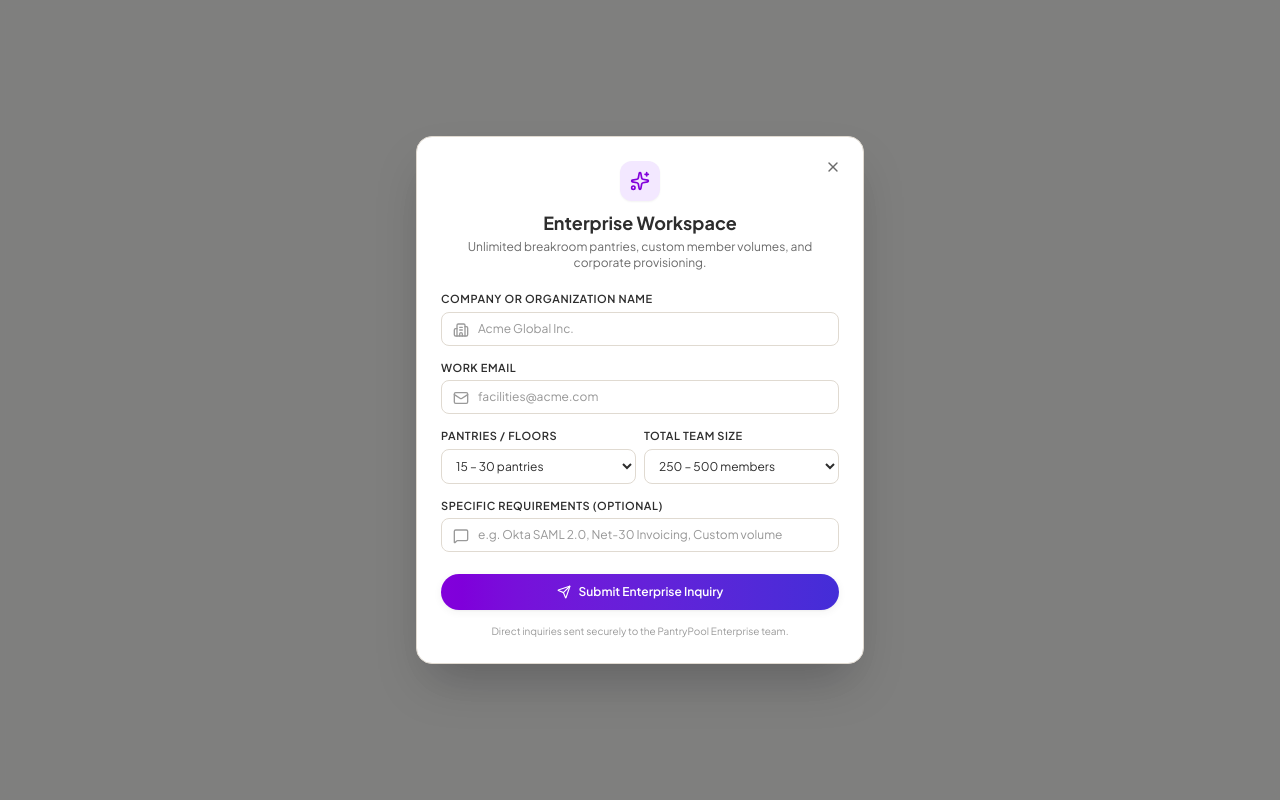
Test: EnterpriseInquiryModal Component › submits inquiry internally via API and does NOT open mailto client popup
This screenshot has width=1280, height=800.
// Fill form
Type "Stark Industries" into the field with placeholder "Acme Global Inc." at (640, 328), box 441,312 -> 839,346
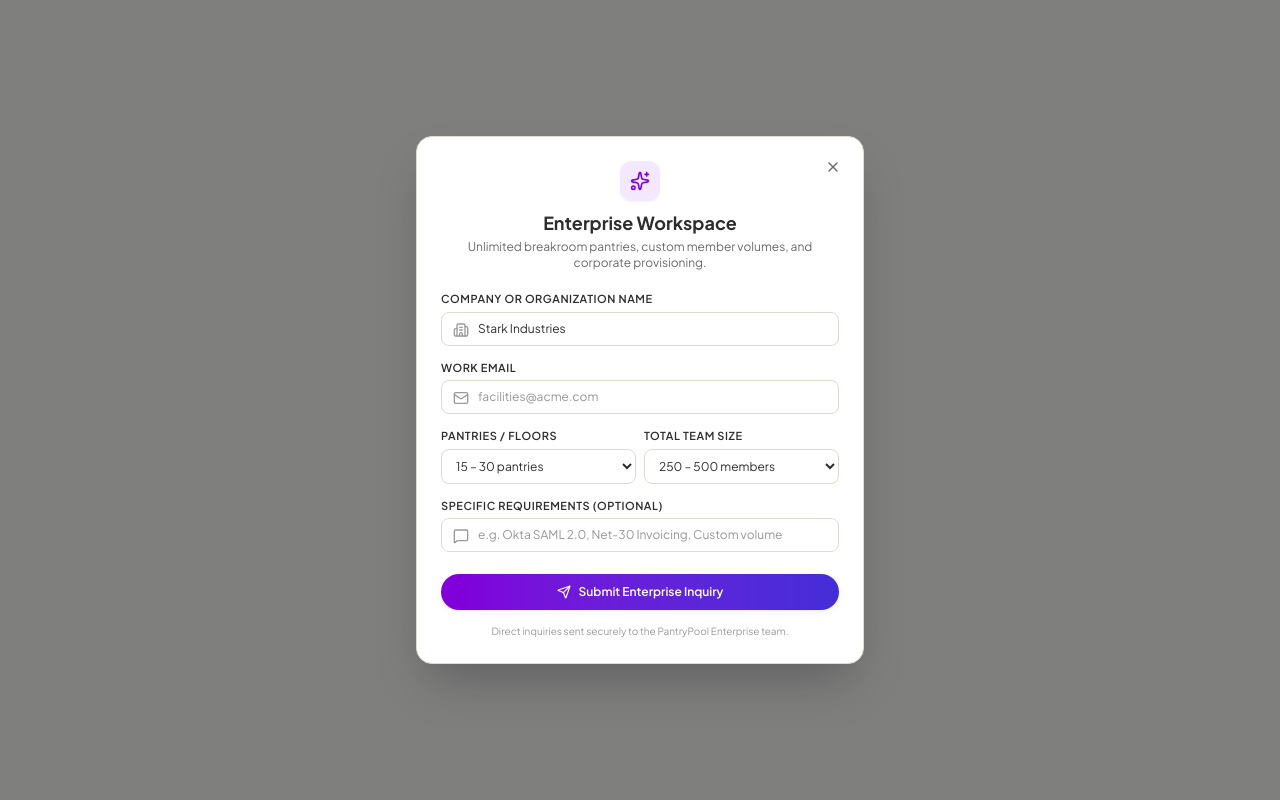
Type "tony@stark.com" into the field with placeholder "facilities@acme.com" at (640, 397), box 441,380 -> 839,414
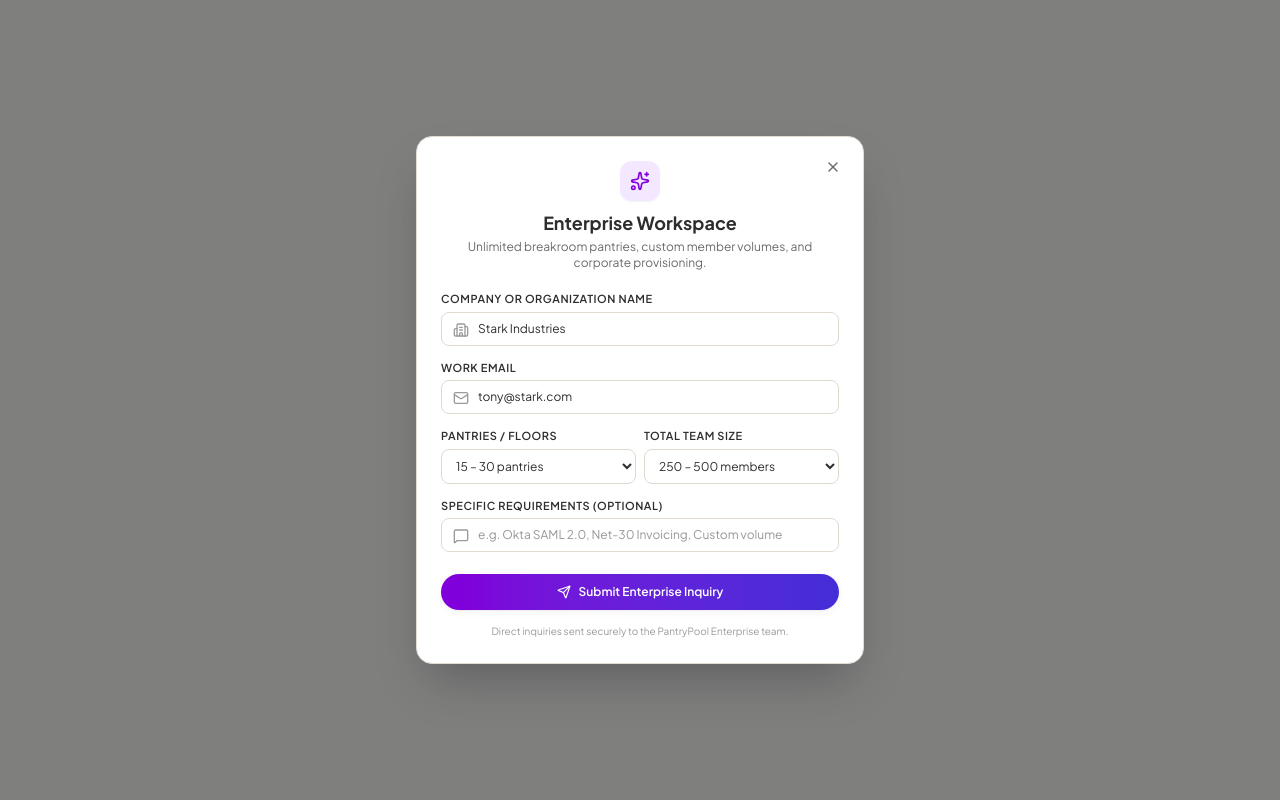
Type "Custom SSO and 50 pantries" into the field with placeholder "e.g. Okta SAML 2.0, Net-30 Invoicing, Custom volume" at (640, 535), box 441,518 -> 839,552
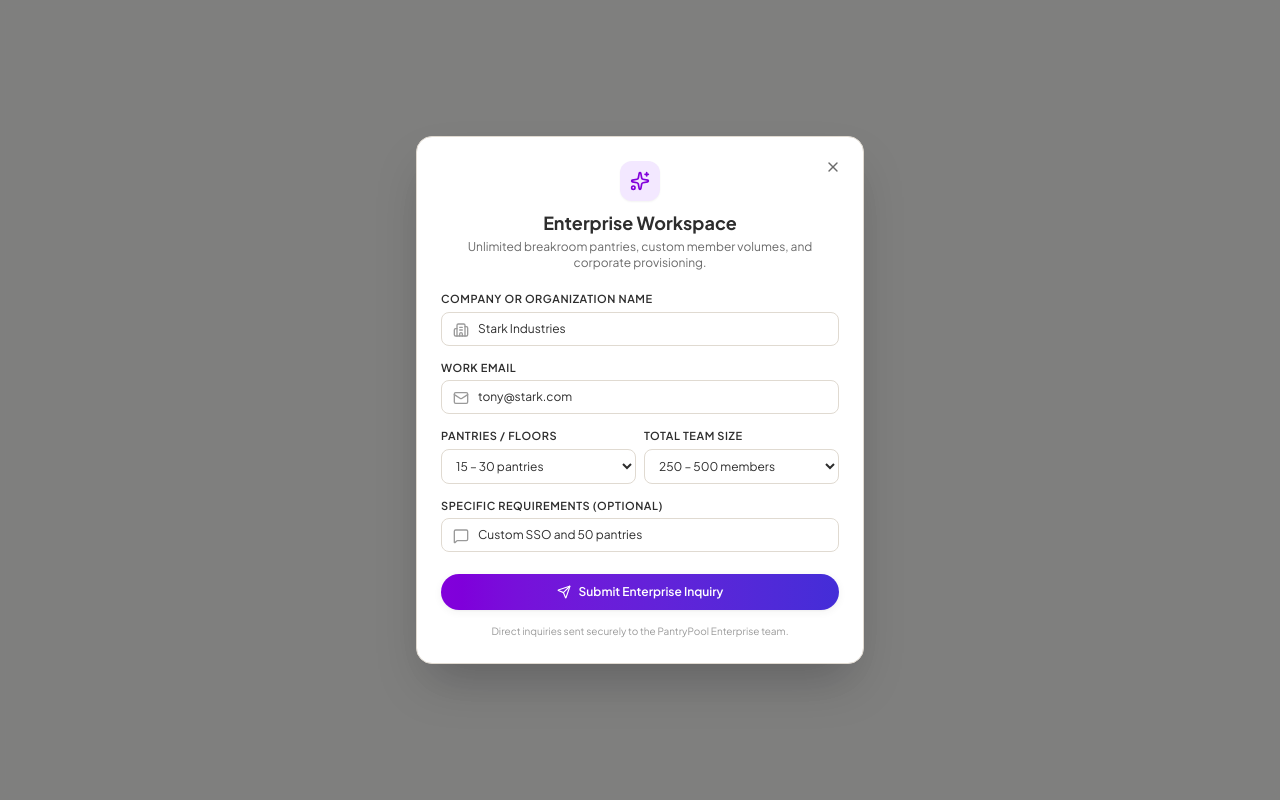
// Submit form
Click the button "Submit Enterprise Inquiry" at (640, 592), box 441,574 -> 839,610
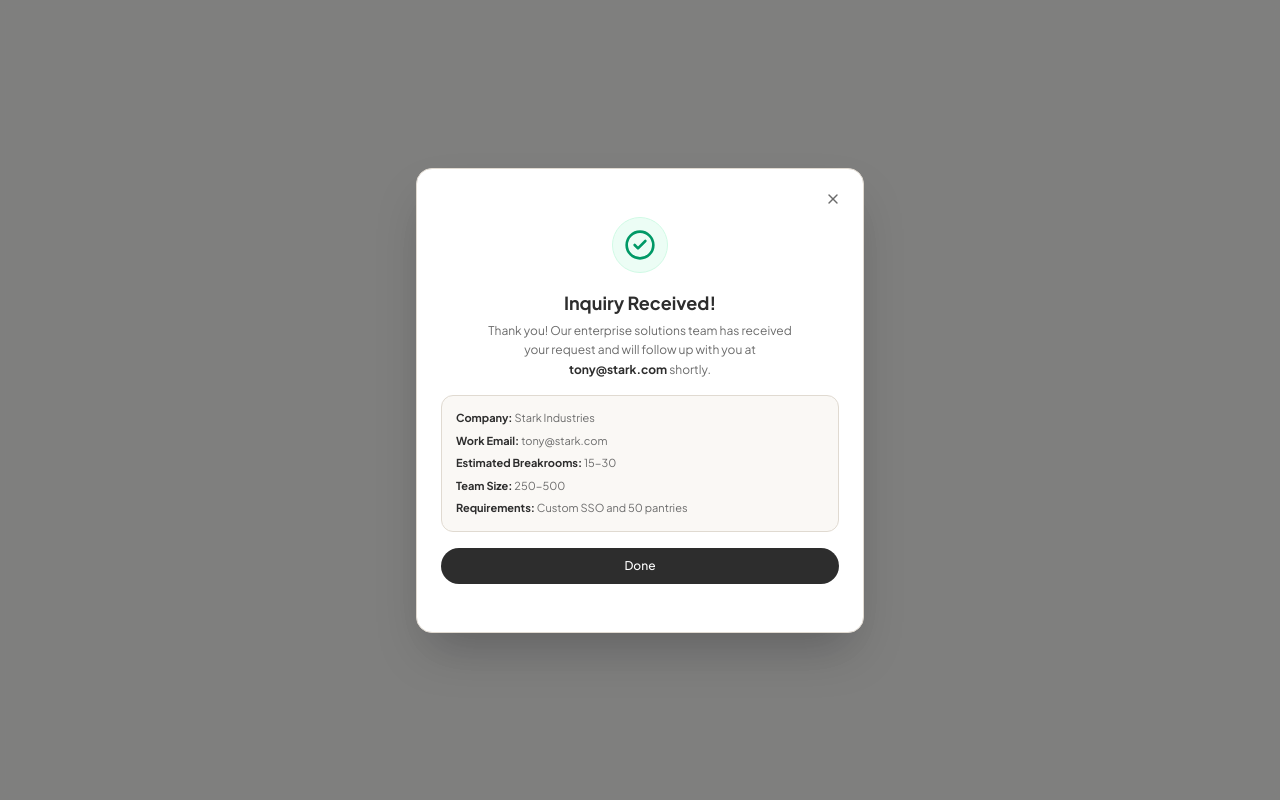
Check: the heading "Inquiry Received!" is shown, box 564,290 -> 716,314
Check: the text "tony@stark.com" is shown, box 569,362 -> 667,376
Check: the text "Company: Stark Industries" is shown, box 456,411 -> 595,424
